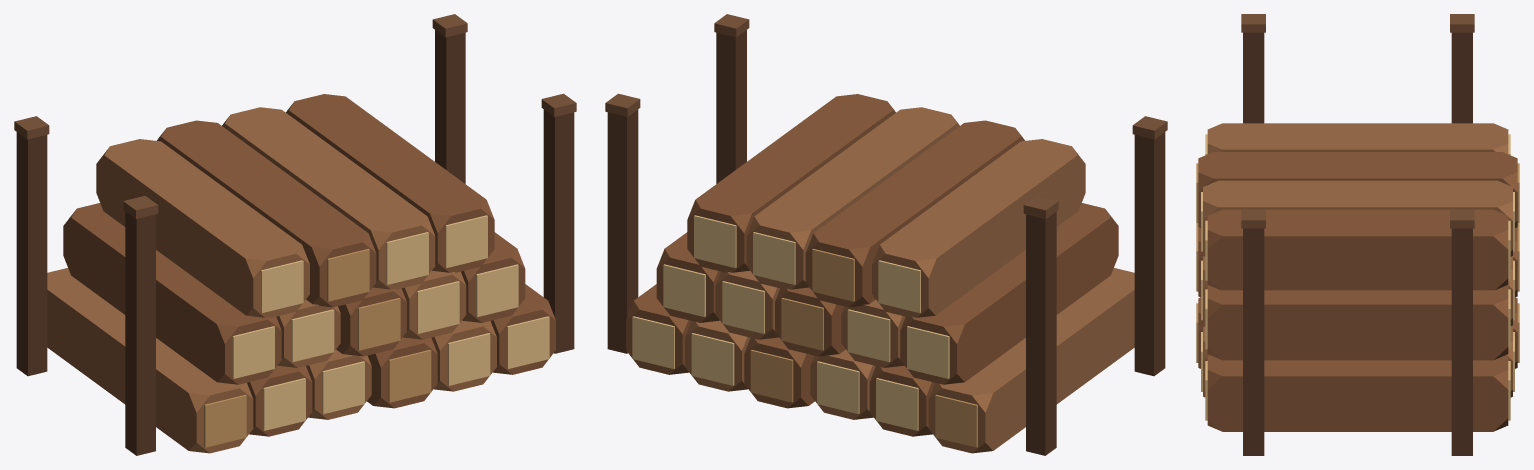
Rendered from woodpile-pixor-blocky.glb.
3 renders of one model, left to right at view 1: azimuth 30°, elevation 25°; view 2: azimuth 150°, elevation 25°; view 3: azimuth 270°, elevation 25°, orthographic. The views are drawn at different scales.
Visible parts, largest first — view 1: Woodpile logs, Woodpile stakes; view 2: Woodpile logs, Woodpile stakes; view 3: Woodpile logs, Woodpile stakes.
Boxes of the visible parts, x1,y1,x2,y2 form: Woodpile logs: (47,94,555,453); Woodpile stakes: (14,14,576,455); Woodpile logs: (626,94,1134,453); Woodpile stakes: (605,14,1167,455); Woodpile logs: (1196,123,1519,431); Woodpile stakes: (1241,14,1474,455).
Bounding box in the file's own units: 1.59 × 0.85 × 1.05.
Materials: 1 (1 with a texture image).
